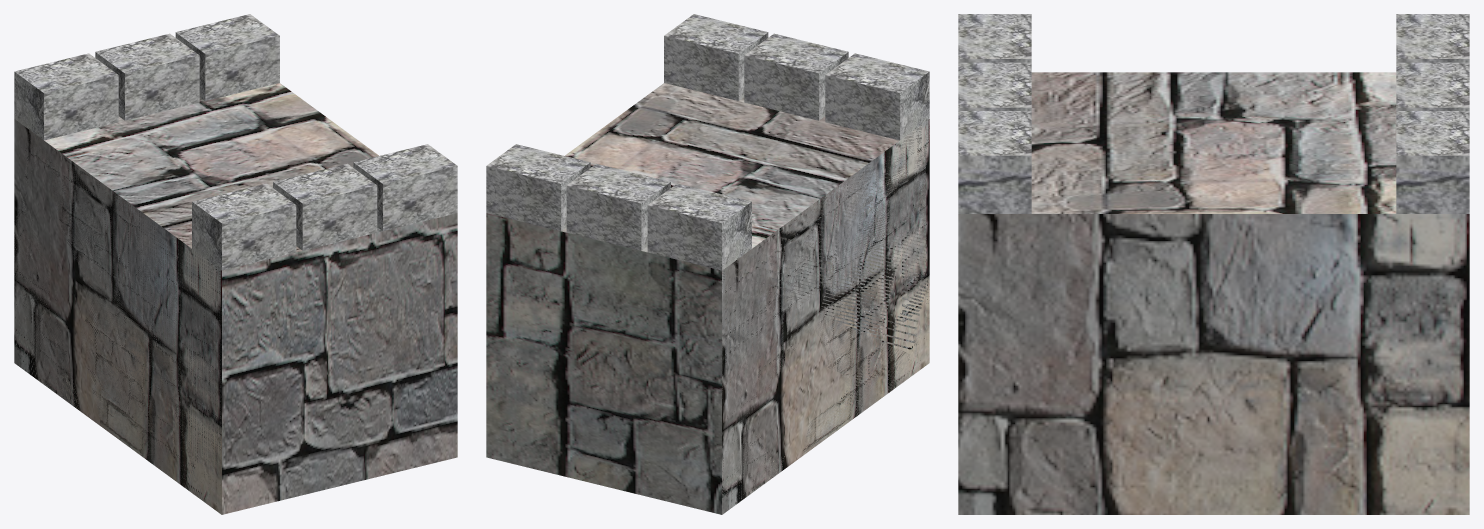
Rendered from castle_2.fbx.
The picture shows the model from 3 angles, left to right: view 1: azimuth 30°, elevation 25°; view 2: azimuth 150°, elevation 25°; view 3: azimuth 270°, elevation 25°; orthographic projection. The views are drawn at different scales.
Visible parts, largest first — view 1: Ground_2; view 2: Ground_2; view 3: Ground_2.
Boxes of the visible parts, box(x1,y1,x2,y2) form: Ground_2: box(14, 14, 457, 514); Ground_2: box(486, 14, 929, 514); Ground_2: box(958, 14, 1469, 514).
Size of the model in its own units: 115 by 175 by 136.
Materials: 2 (2 with a texture image).
